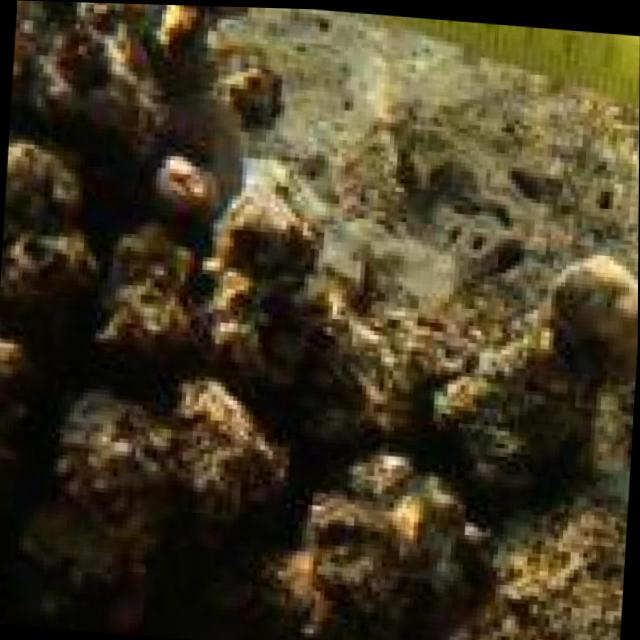Dead Coral: (248, 443, 515, 637), (41, 360, 268, 565), (431, 317, 592, 507), (199, 196, 317, 354), (101, 206, 194, 363), (0, 142, 88, 297)
